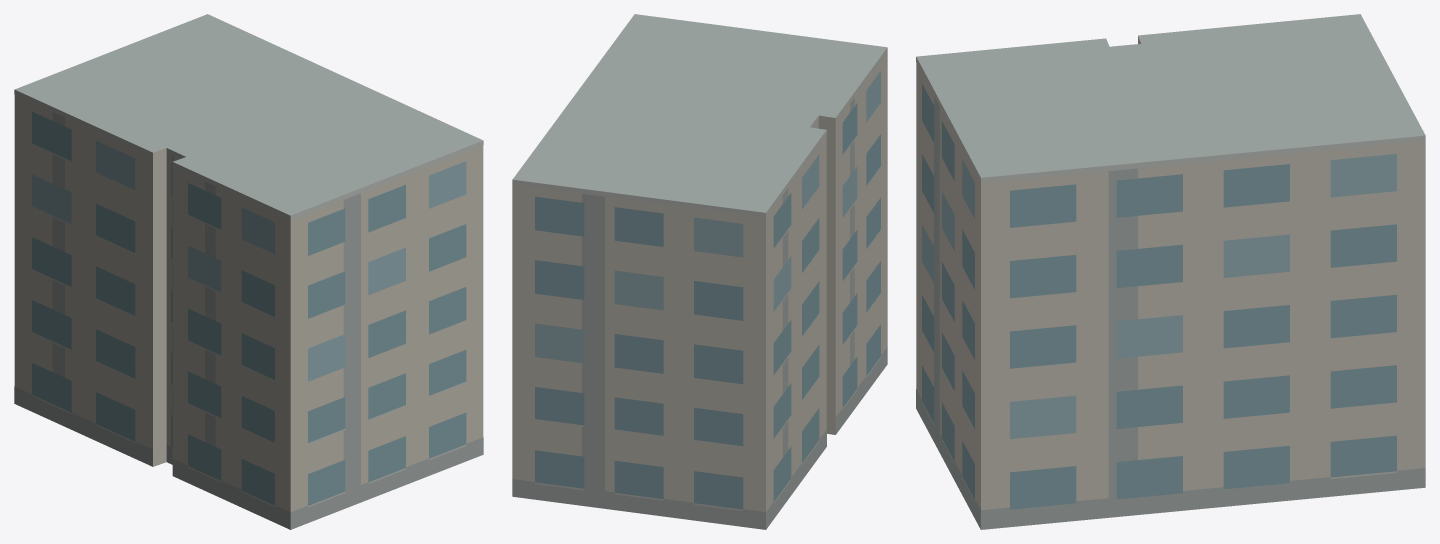
Rendered from survey-upis-32798695.glb.
3 views of the same model, side by side, from view 1: azimuth 30°, elevation 25°; view 2: azimuth 150°, elevation 25°; view 3: azimuth 270°, elevation 25° (orthographic). The views are drawn at different scales.
Parts seen in each view (by area): view 1: survey-upis-32798695.tmp; view 2: survey-upis-32798695.tmp; view 3: survey-upis-32798695.tmp.
Boxes of the visible parts, x1=… form: survey-upis-32798695.tmp: x1=14, y1=14, x2=483, y2=529; survey-upis-32798695.tmp: x1=512, y1=14, x2=887, y2=529; survey-upis-32798695.tmp: x1=916, y1=14, x2=1425, y2=529.
Size of the model in its own units: 15.37 by 15.4 by 20.21.
